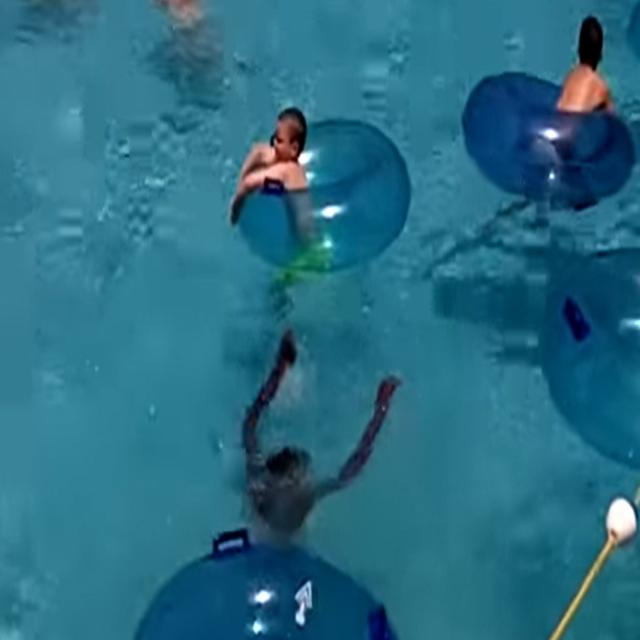Drowning: (234, 328, 400, 538)
Swimming: (224, 103, 312, 225), (557, 12, 623, 123)
